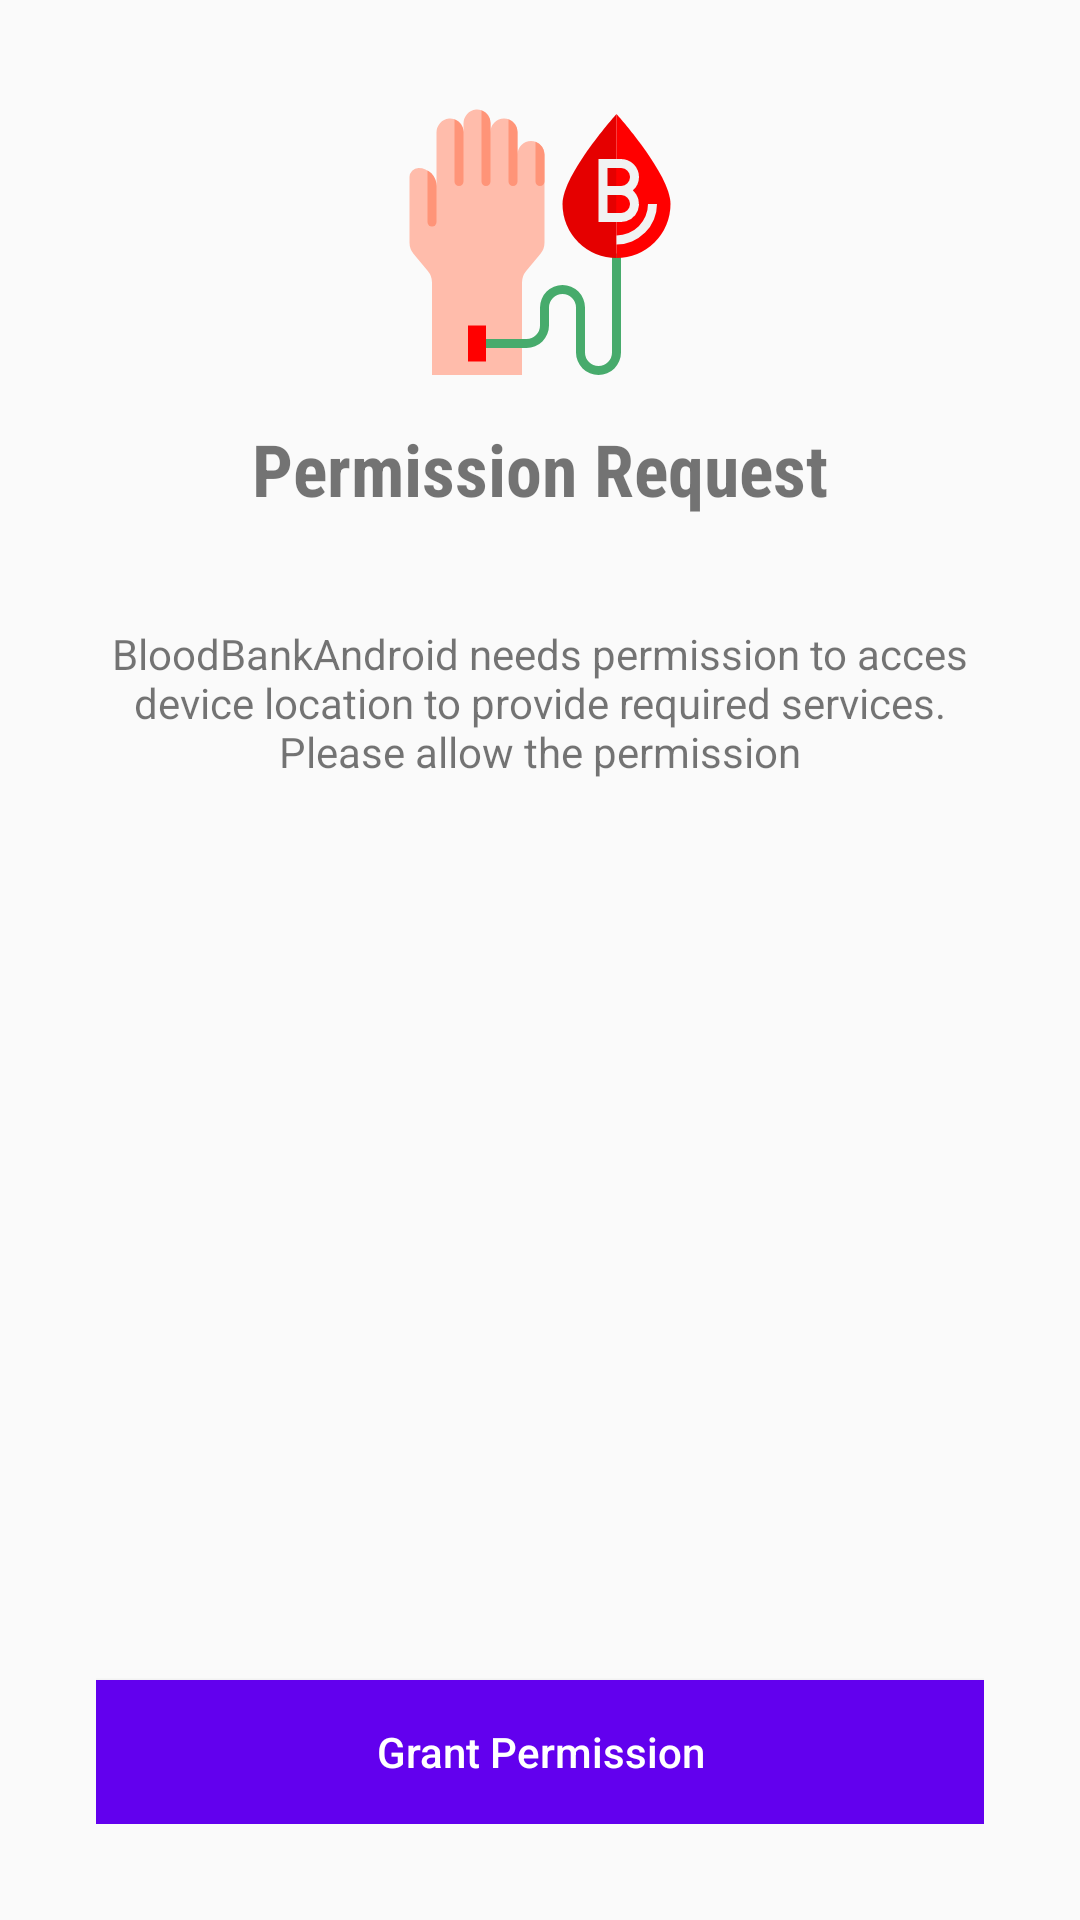

Screen size 1080px×1920px. Icon name, then its box in pixels as (x1=x1, y1=y1, x2=x2, y2=y2):
blood donation: (x1=409, y1=109, x2=671, y2=375)
